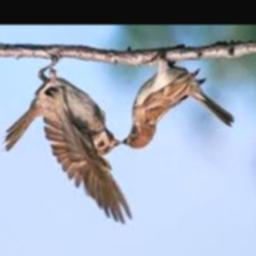Sparrow: (5, 57, 133, 223), (123, 53, 235, 150)
